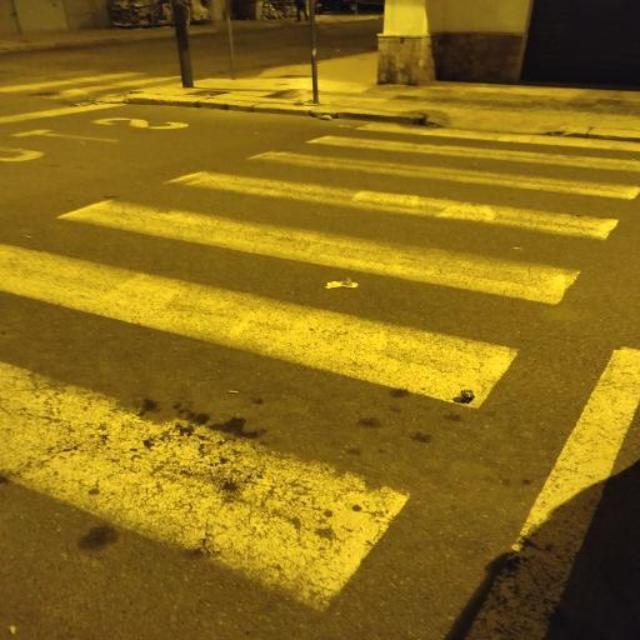sidewalk: (0, 116, 640, 618)
